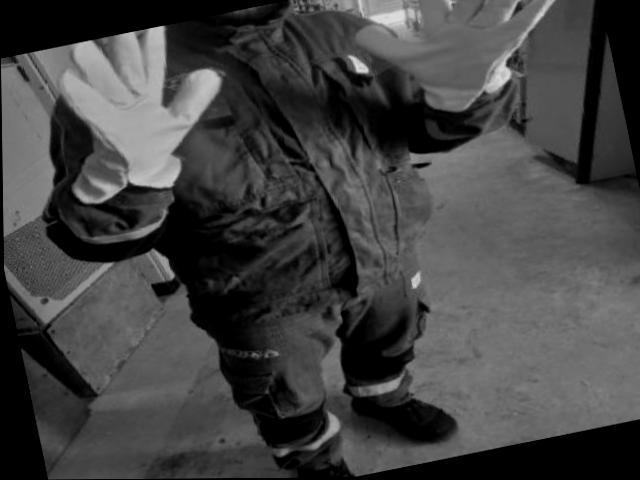Hand-in-Glove: (26, 16, 242, 220), (339, 0, 580, 126)
